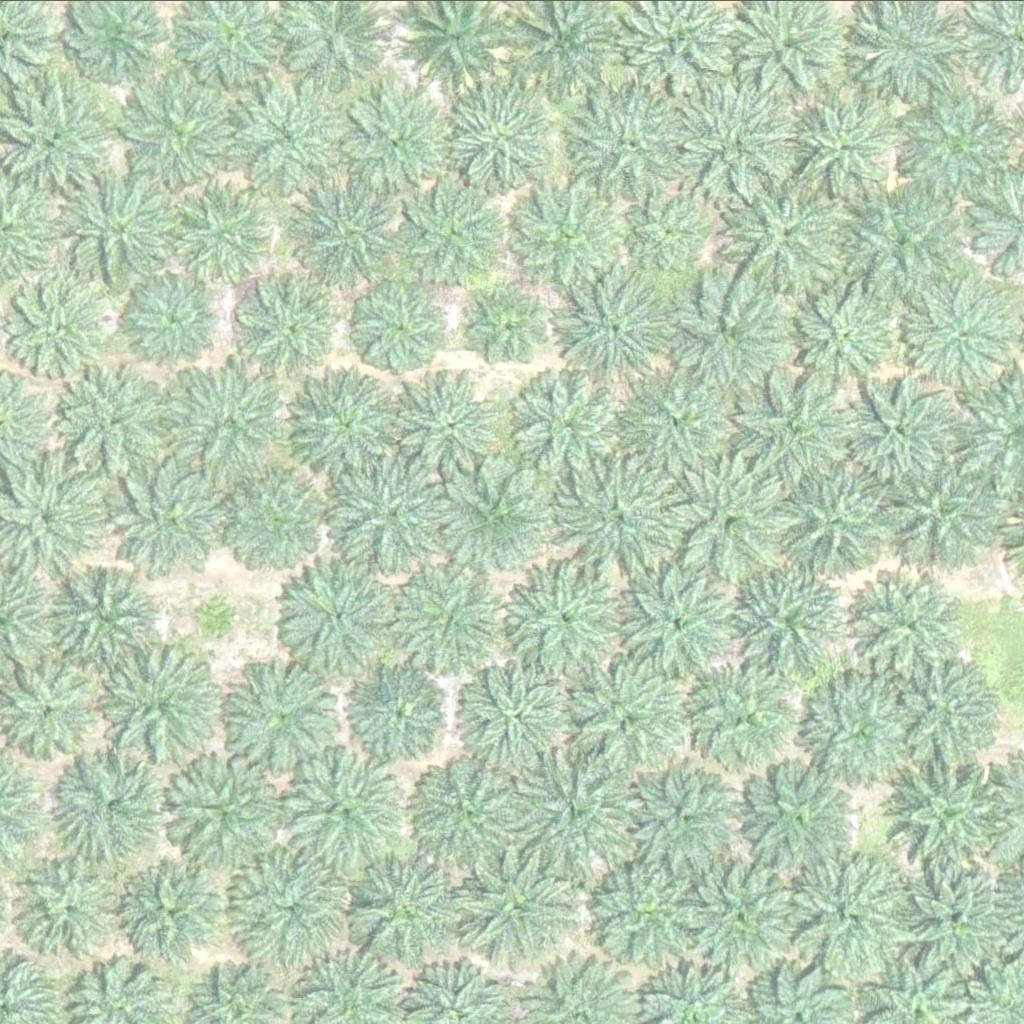Kelapa_Sawit: (334, 449, 460, 574), (408, 750, 534, 875), (227, 843, 353, 968), (349, 844, 475, 969), (461, 844, 587, 969), (680, 847, 806, 972), (788, 848, 914, 973), (570, 666, 696, 791), (881, 753, 1007, 878), (555, 456, 681, 581), (670, 460, 796, 585), (726, 164, 852, 289), (573, 78, 699, 203), (280, 752, 405, 877), (163, 750, 288, 875), (586, 847, 711, 972), (681, 661, 806, 786), (799, 672, 924, 797), (448, 85, 562, 198), (291, 174, 405, 287), (621, 367, 735, 480), (514, 370, 628, 483), (63, 172, 176, 285), (442, 459, 555, 572), (396, 565, 509, 678), (278, 562, 391, 675), (56, 560, 169, 673), (744, 764, 857, 877), (630, 763, 743, 876), (515, 750, 628, 863), (889, 658, 1002, 771), (846, 371, 959, 484), (742, 374, 855, 487), (678, 84, 791, 197), (53, 368, 167, 480), (171, 367, 285, 479), (117, 461, 231, 573), (562, 276, 676, 388), (676, 274, 790, 386), (855, 186, 969, 298), (906, 91, 1020, 203), (232, 81, 345, 193), (130, 76, 243, 188), (286, 370, 399, 482), (219, 659, 332, 771), (465, 649, 578, 761), (58, 753, 171, 865), (13, 851, 126, 963), (904, 867, 1017, 979), (852, 568, 965, 680), (727, 561, 840, 673), (624, 569, 737, 681), (514, 564, 627, 676), (784, 464, 897, 576), (882, 457, 995, 569), (14, 280, 115, 380), (400, 373, 501, 473), (224, 468, 325, 568), (114, 654, 215, 754), (351, 661, 452, 761), (123, 863, 224, 963), (911, 280, 1012, 380), (524, 186, 625, 286), (343, 89, 443, 189), (181, 183, 281, 283), (403, 181, 503, 281), (794, 287, 894, 387), (790, 94, 890, 194), (359, 282, 447, 370), (254, 280, 342, 368), (134, 273, 222, 360), (474, 292, 550, 367), (633, 190, 709, 265), (195, 592, 245, 642)
